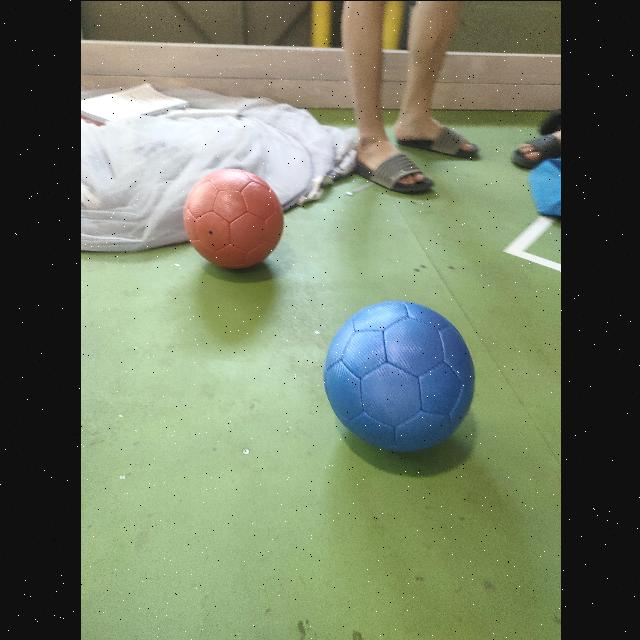B: (323, 300, 474, 451)
R: (183, 168, 282, 268)
